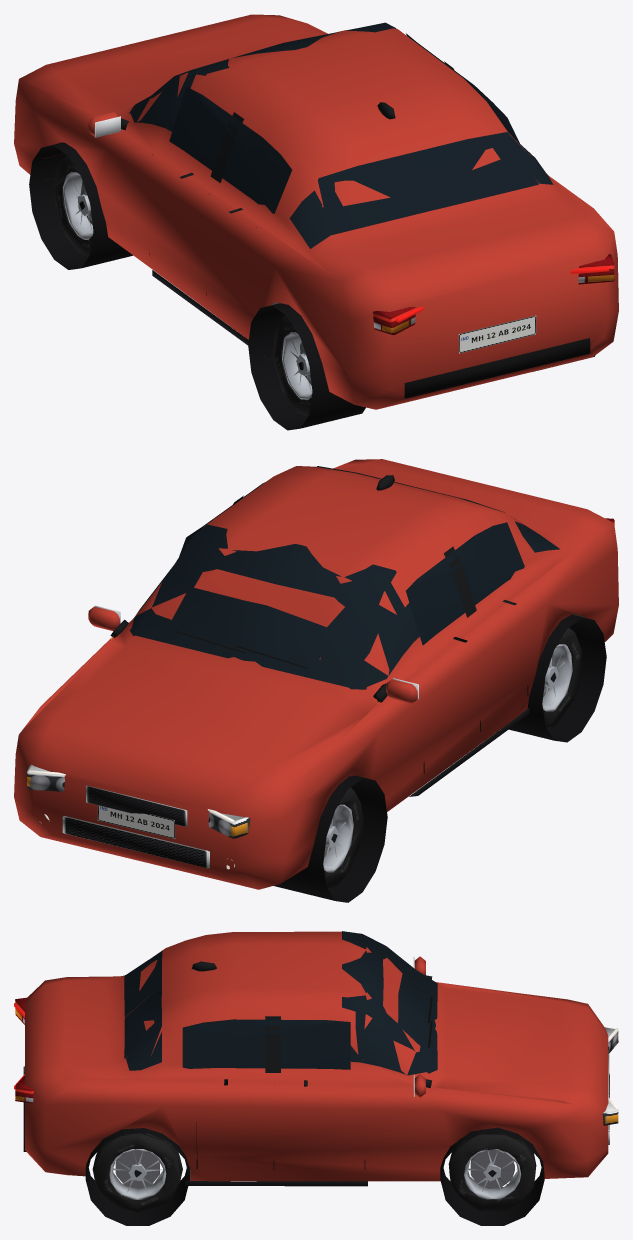
Rendered from sedan_far.glb.
The picture shows the model from 3 angles, top to bottom: view 1: azimuth 30°, elevation 25°; view 2: azimuth 150°, elevation 25°; view 3: azimuth 270°, elevation 25°; orthographic projection. The views are drawn at different scales.
Parts seen in each view (by area): view 1: sedan_CarPaint, sedan_Glass, sedan_Parts, sedan_Tyre; view 2: sedan_CarPaint, sedan_Glass, sedan_Parts, sedan_Tyre; view 3: sedan_CarPaint, sedan_Glass, sedan_Parts, sedan_Tyre.
Boxes of the visible parts, left/top/right/bottom form: sedan_CarPaint: left=14, top=14, right=618, bottom=409; sedan_Glass: left=129, top=22, right=553, bottom=248; sedan_Parts: left=29, top=61, right=614, bottom=430; sedan_Tyre: left=53, top=155, right=311, bottom=416; sedan_CarPaint: left=14, top=459, right=618, bottom=889; sedan_Glass: left=130, top=466, right=559, bottom=689; sedan_Parts: left=27, top=475, right=614, bottom=902; sedan_Tyre: left=324, top=627, right=581, bottom=888; sedan_CarPaint: left=25, top=931, right=608, bottom=1181; sedan_Glass: left=124, top=931, right=437, bottom=1075; sedan_Parts: left=15, top=957, right=618, bottom=1225; sedan_Tyre: left=92, top=1133, right=536, bottom=1212.
Bounding box in the file's own units: 2.13 × 1.57 × 4.18.
5 materials, 3 textured.
